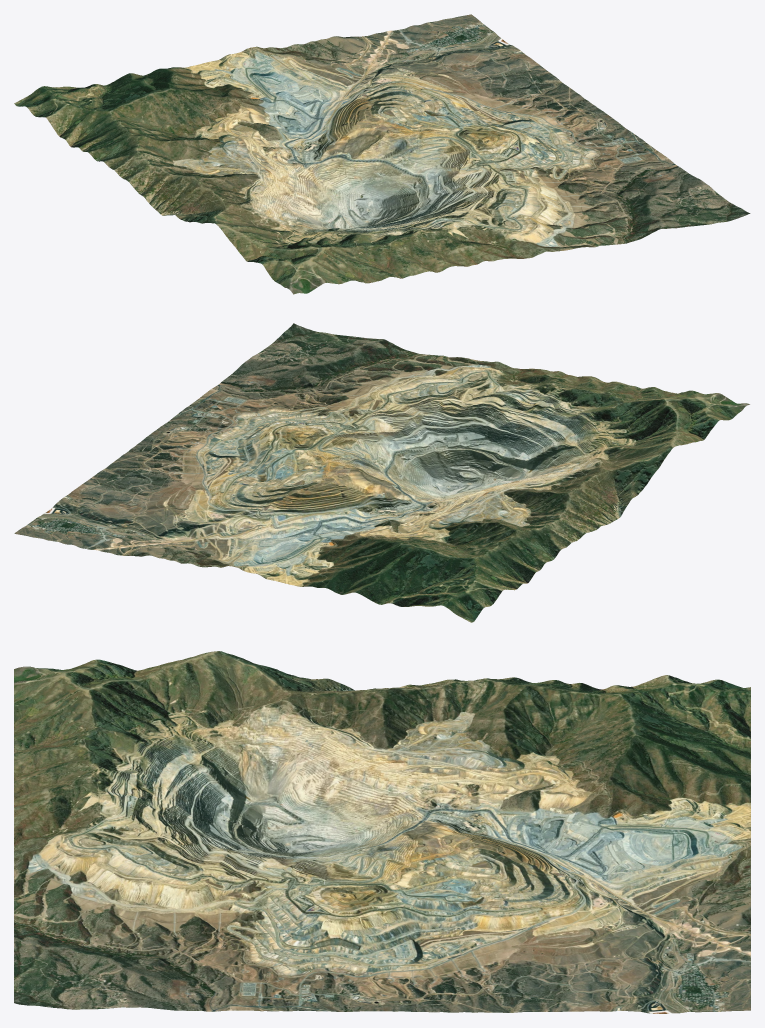
Rendered from bingham-canyon.glb.
The picture shows the model from 3 angles, top to bottom: view 1: azimuth 30°, elevation 25°; view 2: azimuth 150°, elevation 25°; view 3: azimuth 270°, elevation 25°; orthographic projection. The views are drawn at different scales.
Parts seen in each view (by area): view 1: TerrainNode_0; view 2: TerrainNode_0; view 3: TerrainNode_0.
Boxes of the visible parts, x1=… form: TerrainNode_0: x1=14, y1=14, x2=750, y2=294; TerrainNode_0: x1=14, y1=323, x2=749, y2=622; TerrainNode_0: x1=14, y1=651, x2=750, y2=1013.
Bounding box in the file's own units: 10762 × 1361 × 11392.
Materials: 1 (1 with a texture image).
